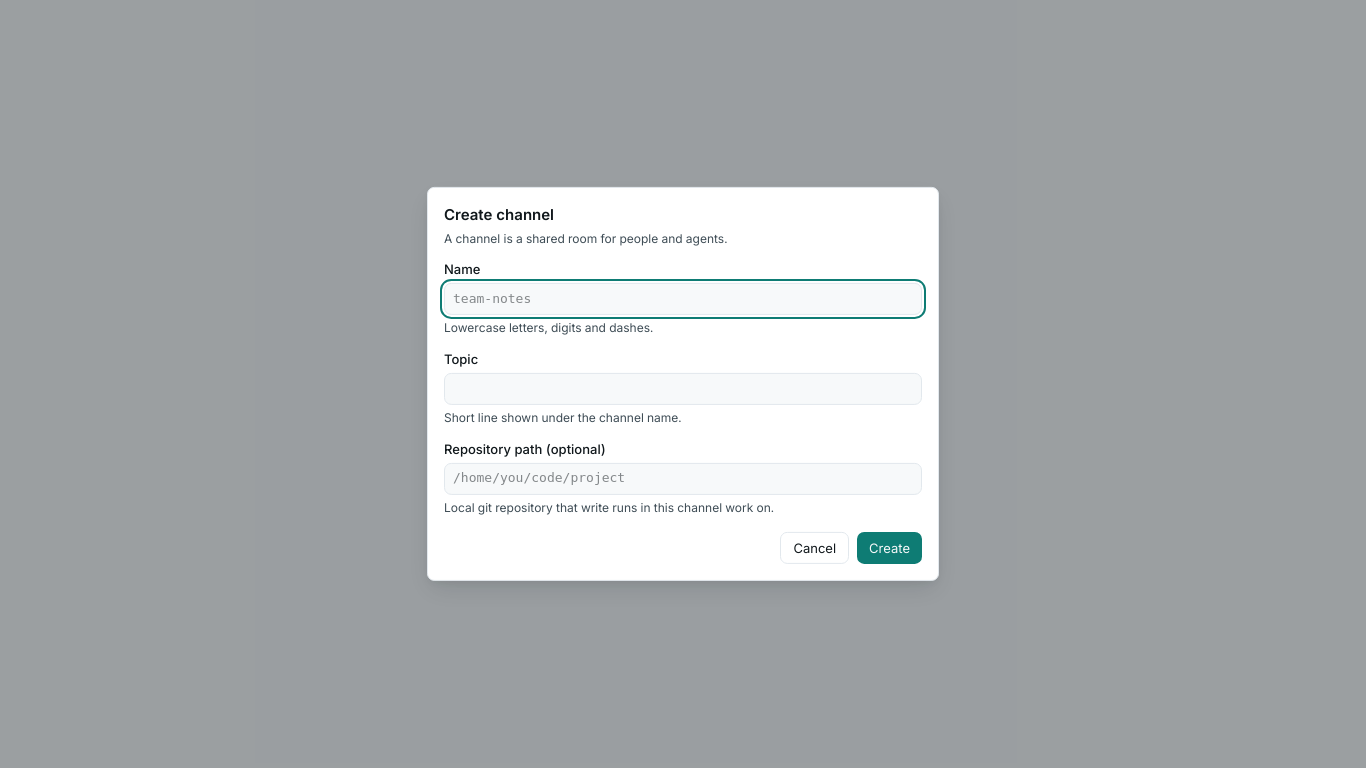
CreateChannelDialog › shows a server error for a bad repo path
This screenshot has width=1366, height=768.
Type "room" into the field labelled "Name" at (683, 299), box [444, 283, 922, 315]
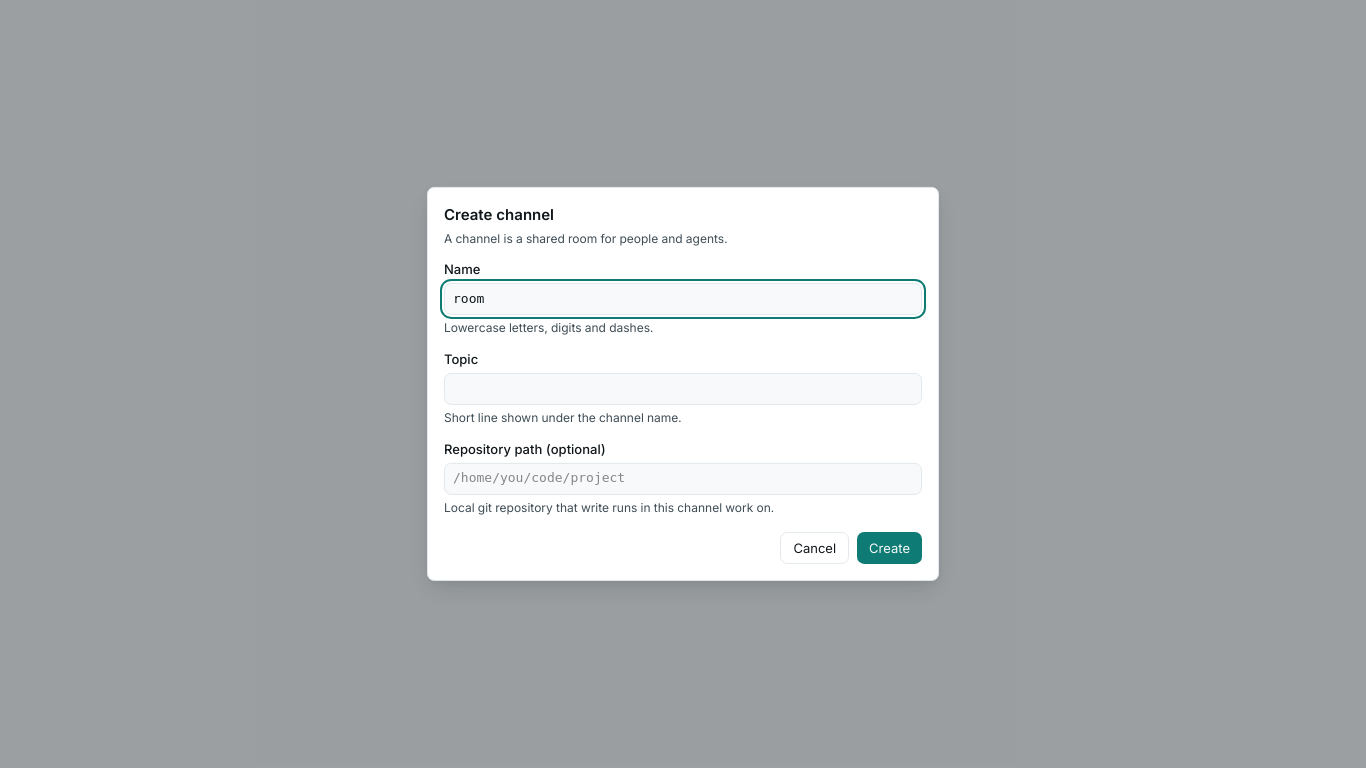
Type "/x" into the field labelled "Repository path (optional)" at (683, 479), box [444, 463, 922, 495]
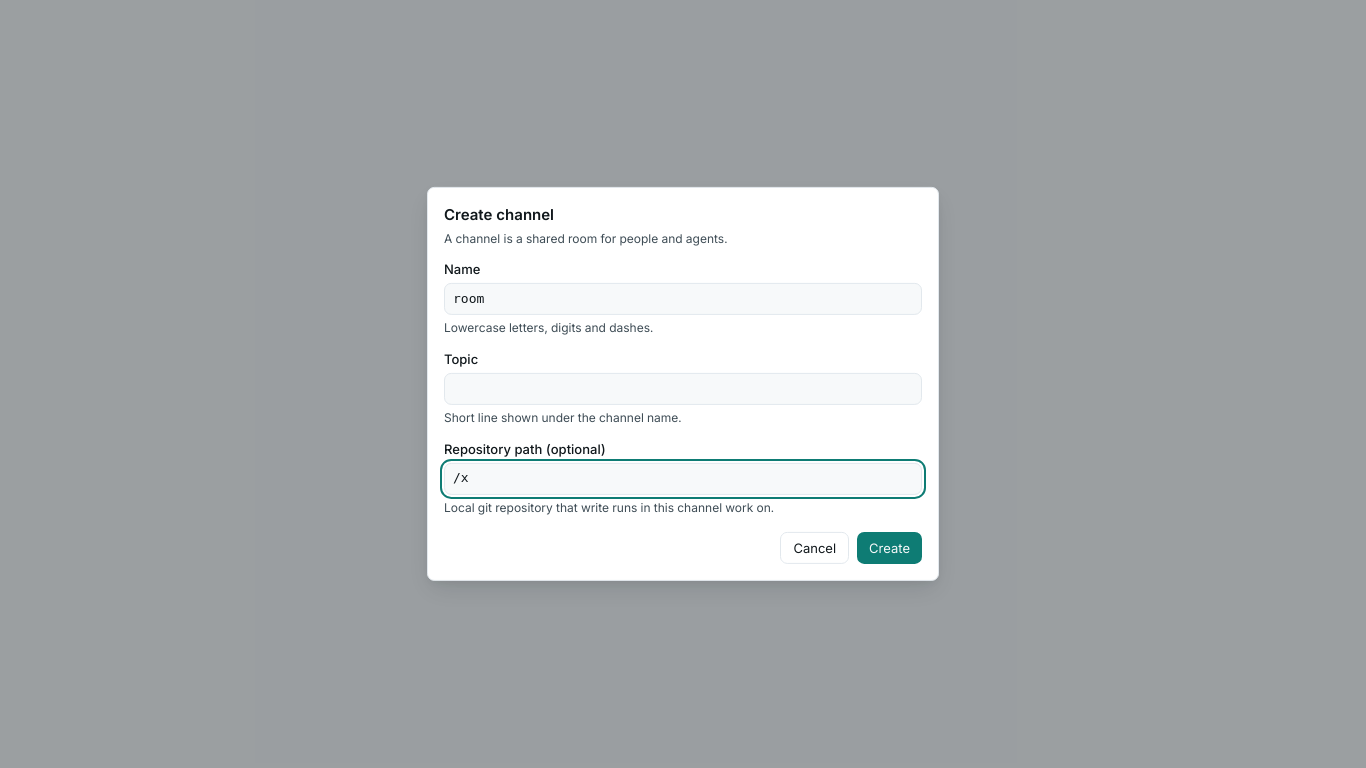
Click the button "Create" at (890, 548), box [857, 532, 922, 564]
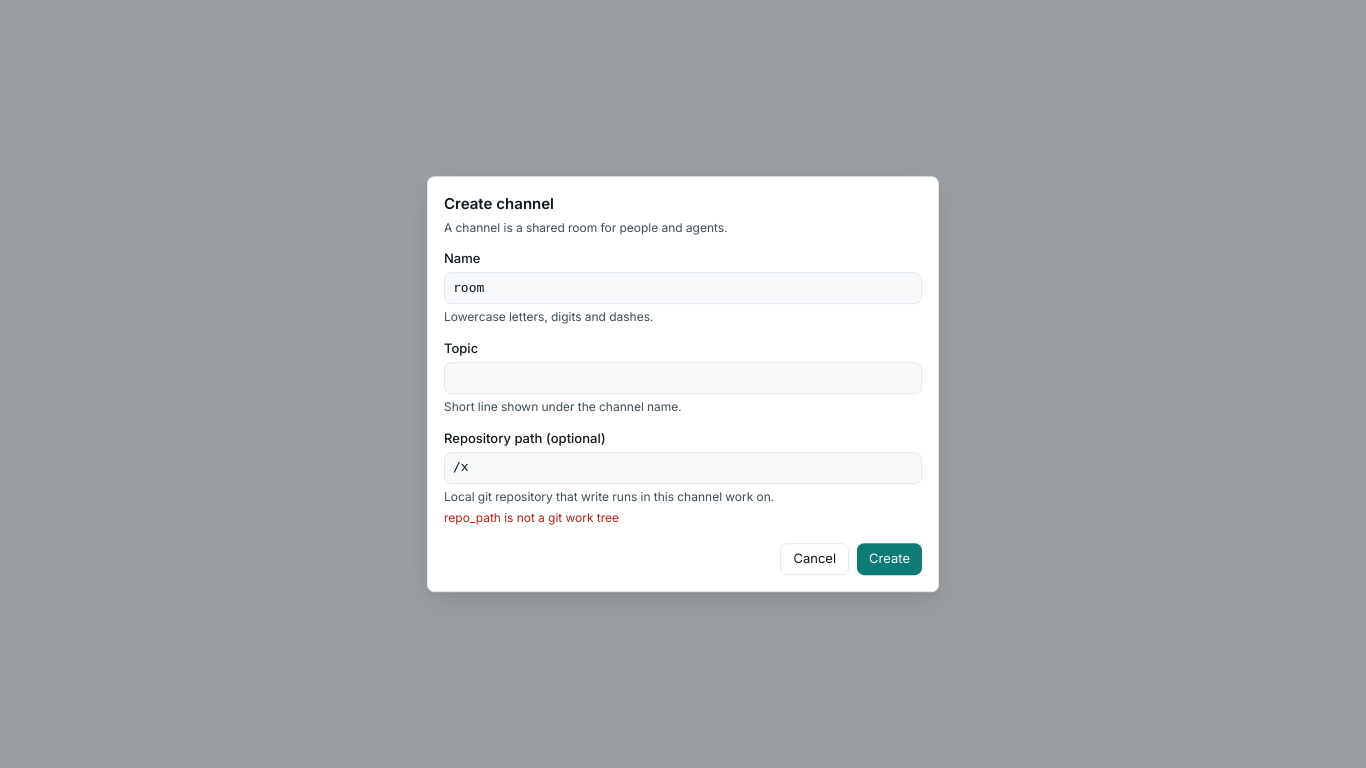
Check: the message shows "not a git work tree", box [444, 510, 619, 525]
